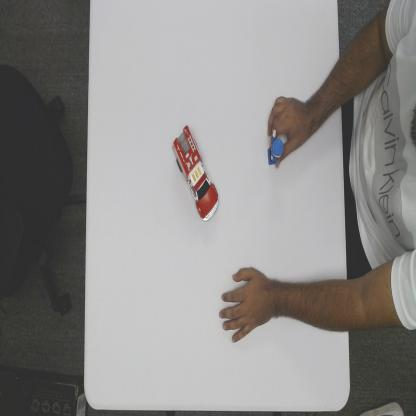Arm: (276, 270, 348, 332), (307, 56, 340, 140)
Firetruck: (172, 125, 219, 224)
Hand: (219, 266, 274, 343), (269, 91, 307, 162)
